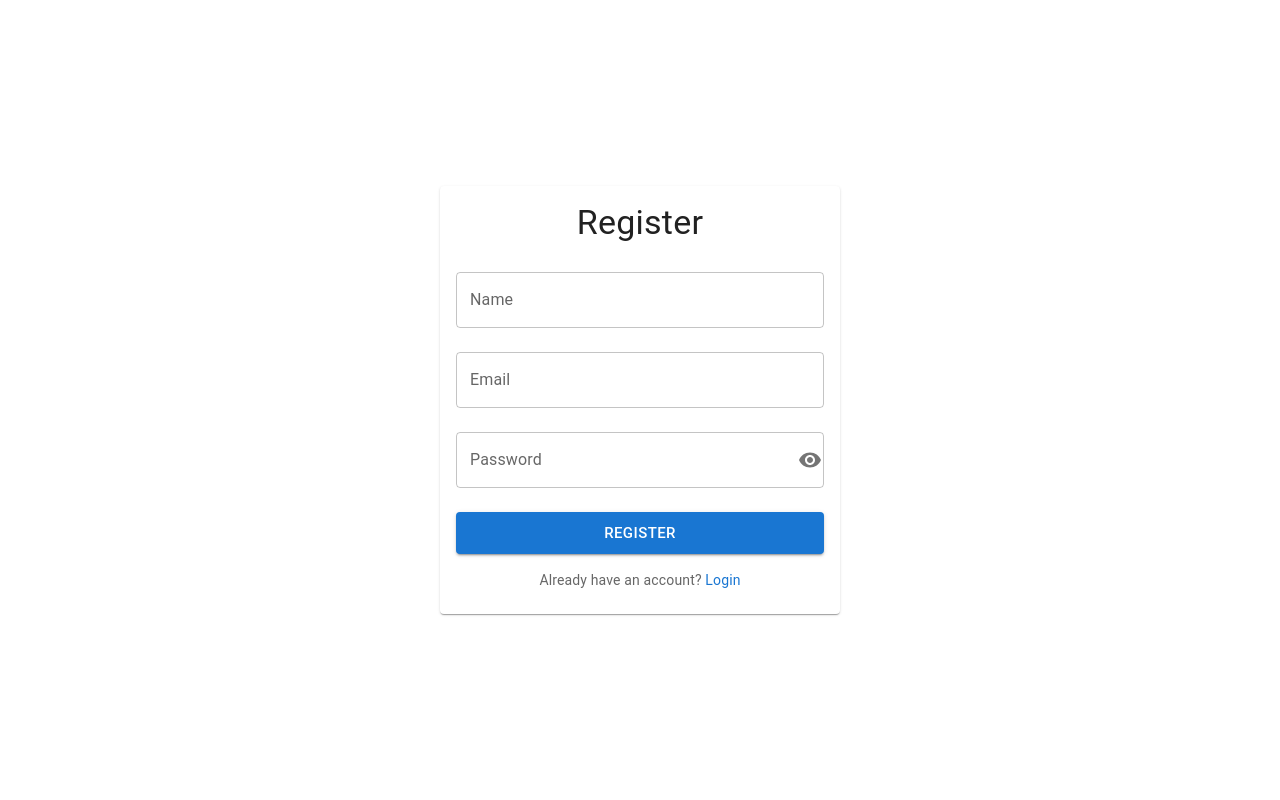
Scenario: RegisterForm › should show validation error for empty name
Note: Submit without name
Type "test@example.com" into the field labelled "Email".
click(640, 380); type("test@example.com")  # box top-left (456, 352), bottom-right (824, 408)
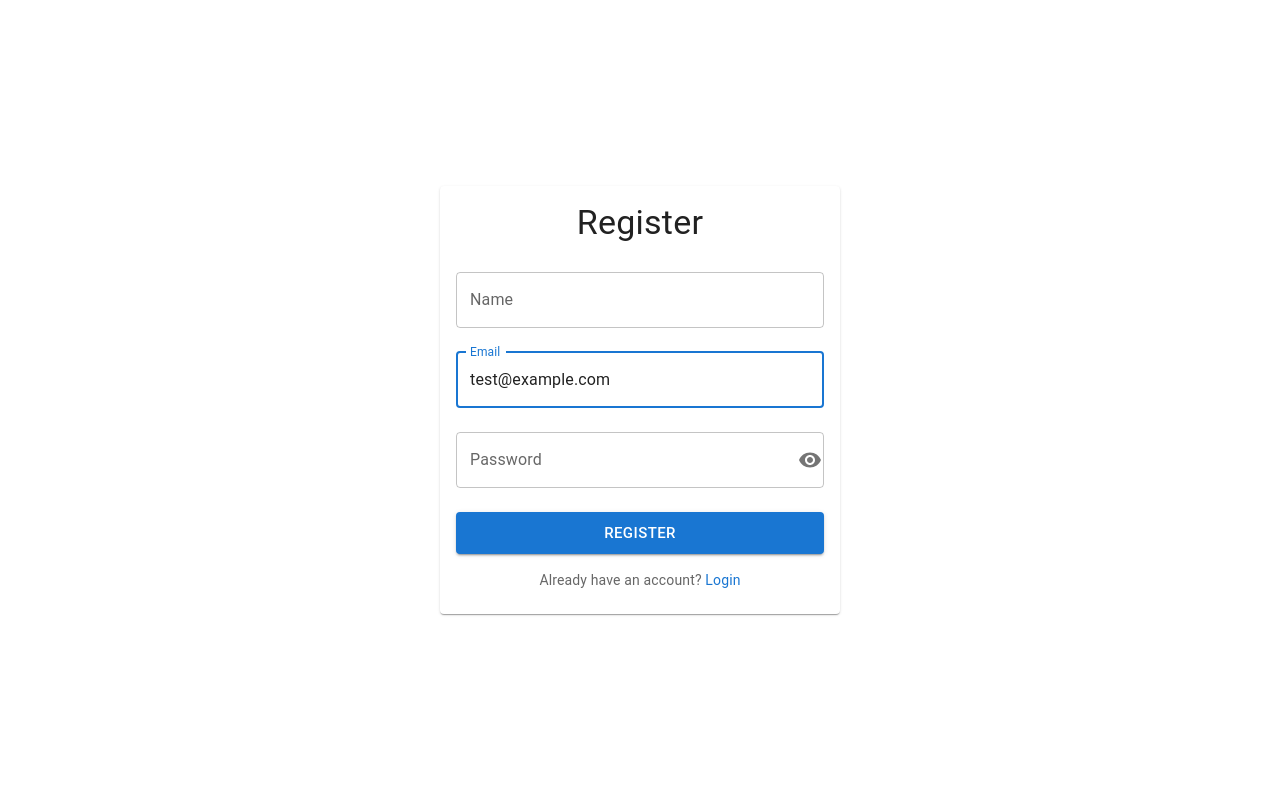
Type "password123" into the password field labelled "Password".
click(623, 460); type("password123")  # box top-left (456, 432), bottom-right (790, 488)
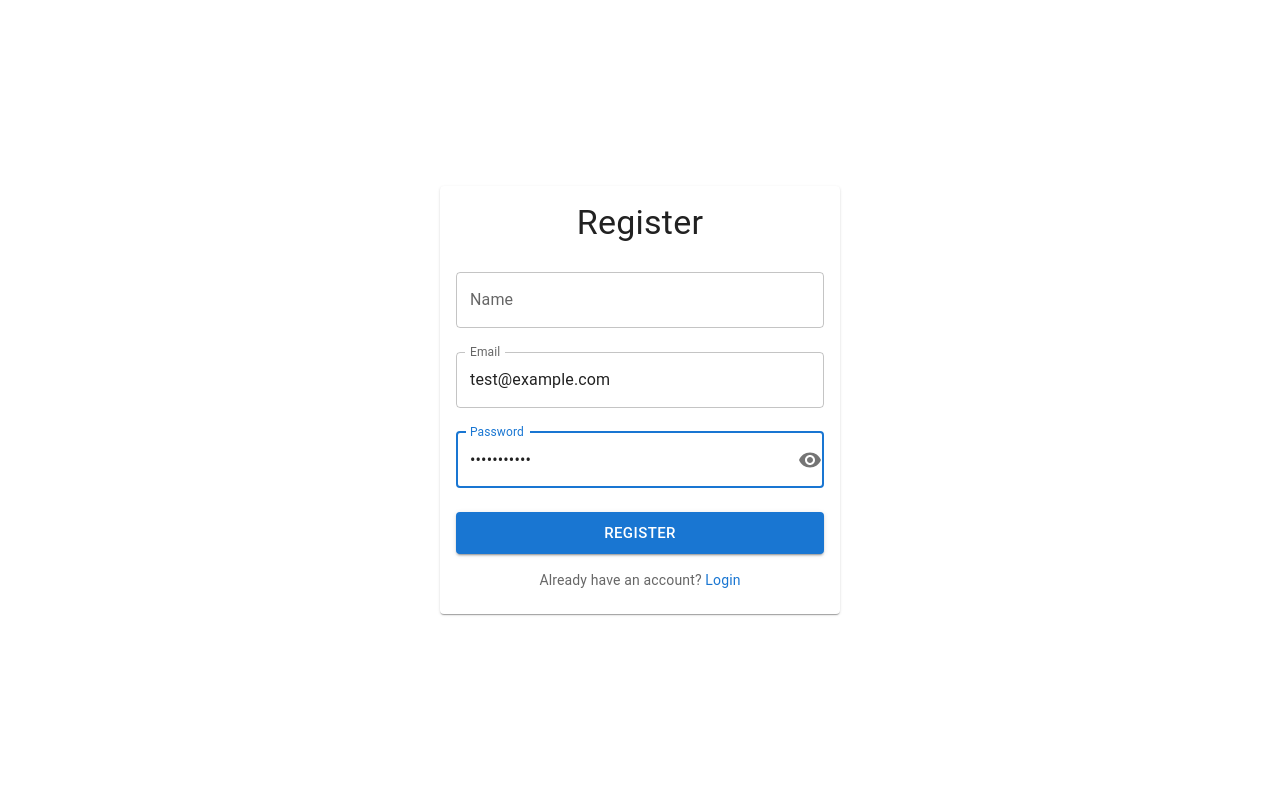
Click the button "Register".
click(640, 533)  # box top-left (456, 512), bottom-right (824, 554)
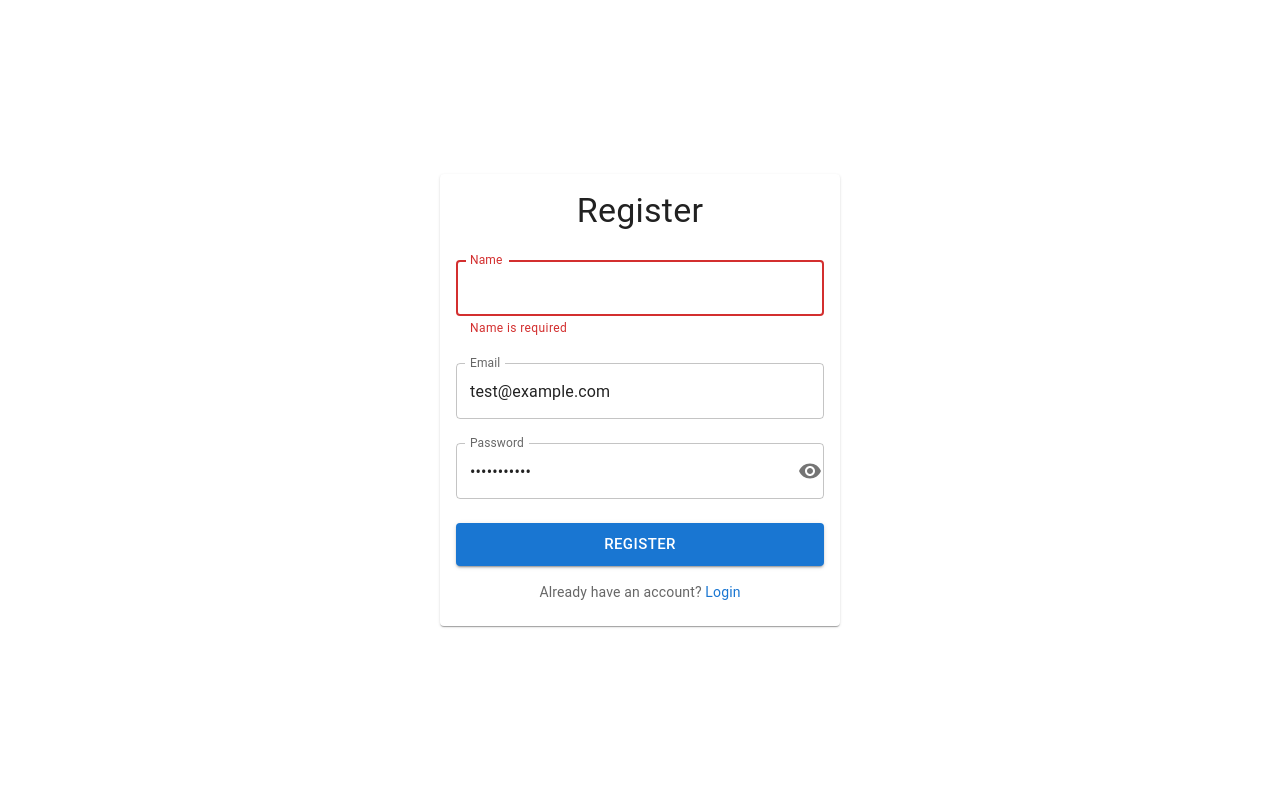
Expected: the text "Name is required" is shown, top-left (470, 321), bottom-right (567, 335)
